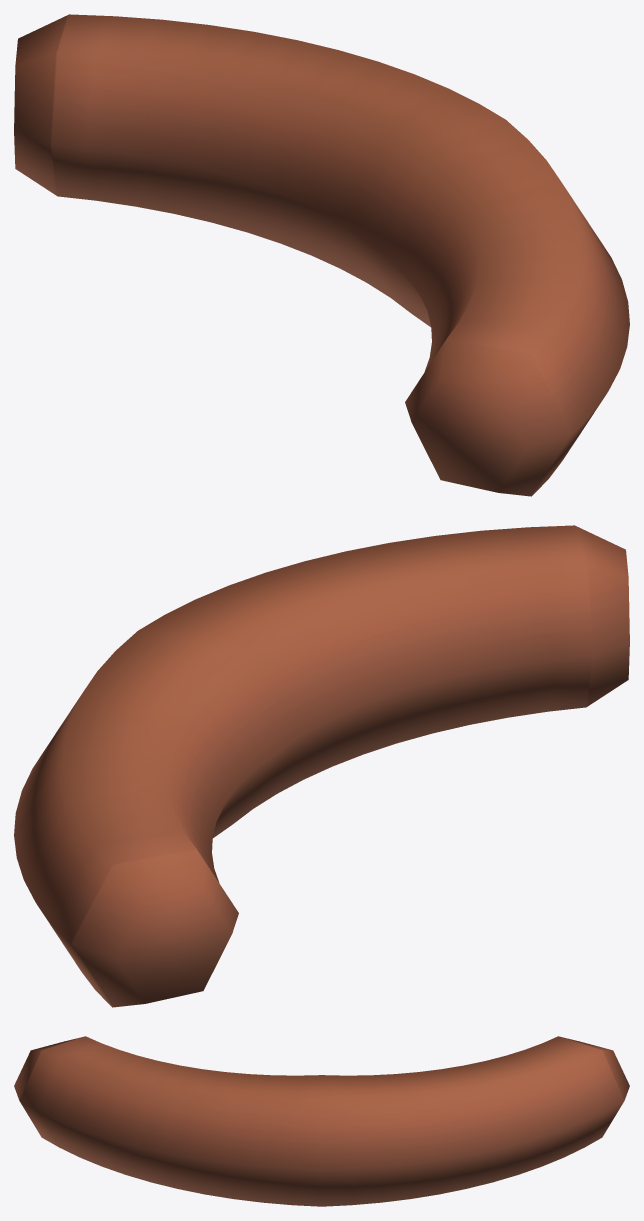
File: kenney-food-meat-sausage.glb
3 views of the same model, one above another, from view 1: azimuth 30°, elevation 25°; view 2: azimuth 150°, elevation 25°; view 3: azimuth 270°, elevation 25° (orthographic). The views are drawn at different scales.
Parts seen in each view (by area): view 1: meat-sausage; view 2: meat-sausage; view 3: meat-sausage.
Boxes of the visible parts, left/top/right/bottom form: meat-sausage: left=14, top=14, right=629, bottom=496; meat-sausage: left=14, top=525, right=629, bottom=1007; meat-sausage: left=14, top=1036, right=629, bottom=1206.
Size of the model in its own units: 0.1516 by 0.0728 by 0.3916.
1 material, 1 textured.
